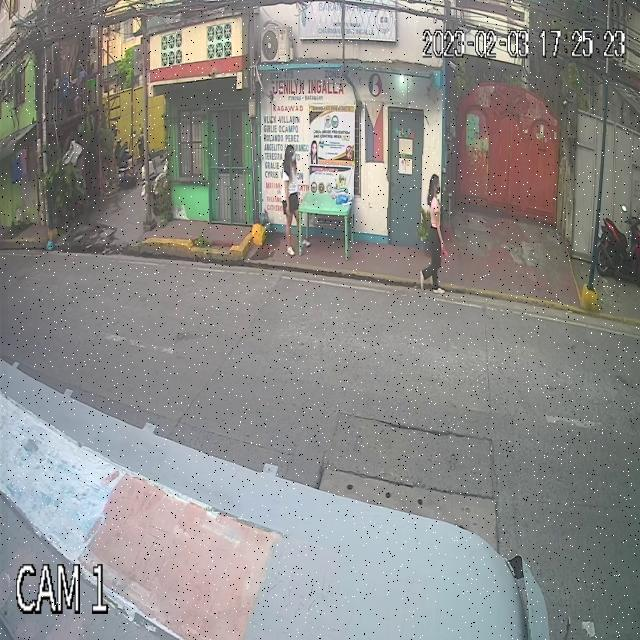human: (420, 173, 448, 294)
trash: (440, 238, 451, 262)
